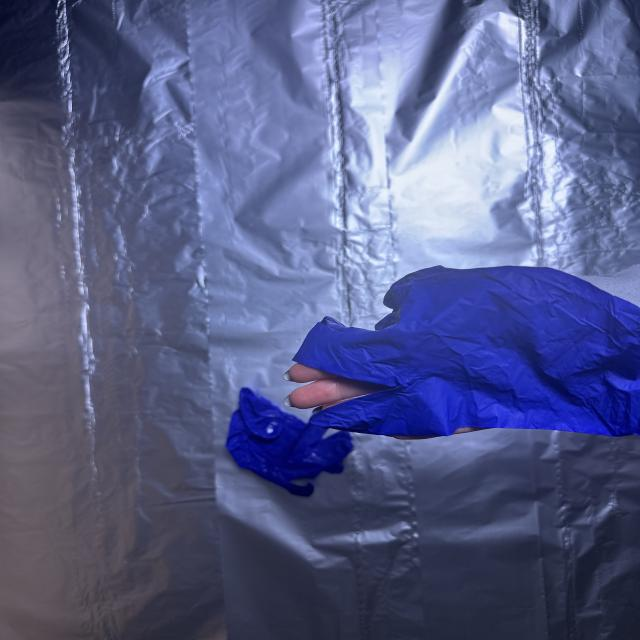glove_not_fitted: (276, 262, 640, 458)
